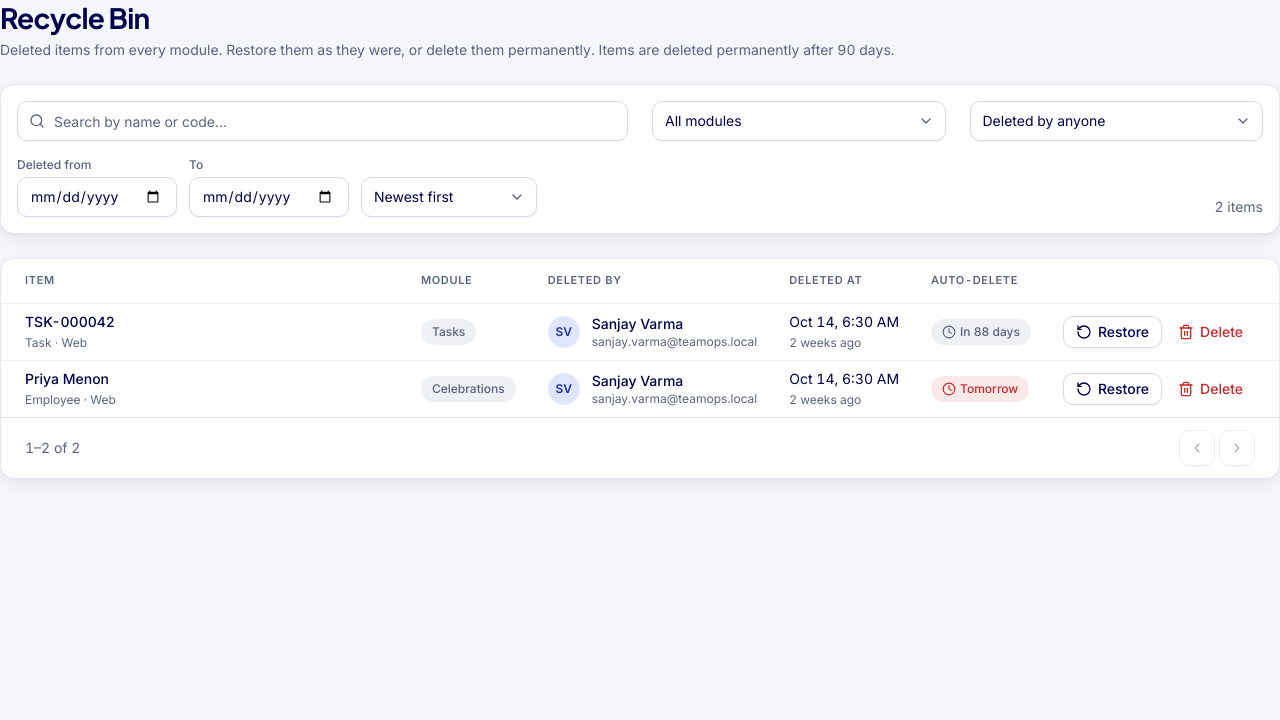
RecycleBinPage › blocks the restore when another employee now has the employee ID
What coordinates should you click on to do the following:
click the button with aria-label "Restore Priya Menon"
I would click on:
 (1113, 388)
Its box is x1=1063 y1=372 x2=1162 y2=404.
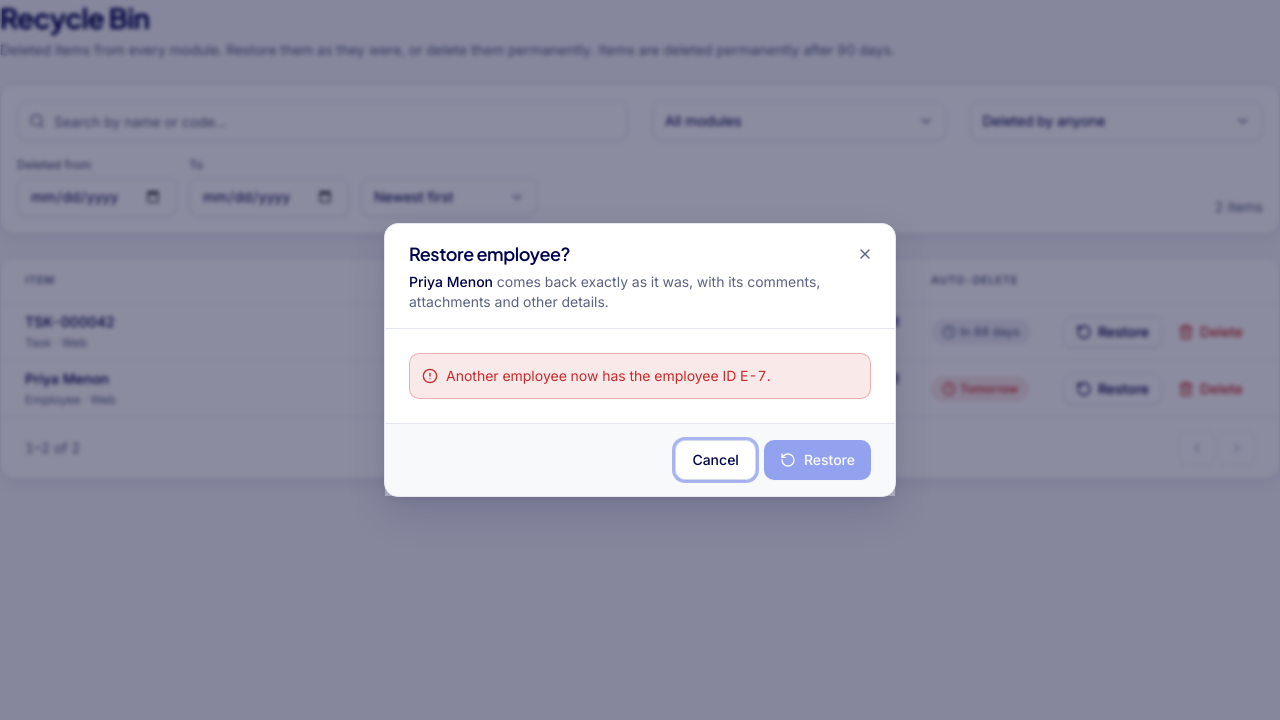
Expected: the message reads "Another employee now has the employee ID E-7.", x1=446 y1=367 x2=770 y2=384
Expected: the button "Restore" is disabled, x1=764 y1=440 x2=871 y2=480
